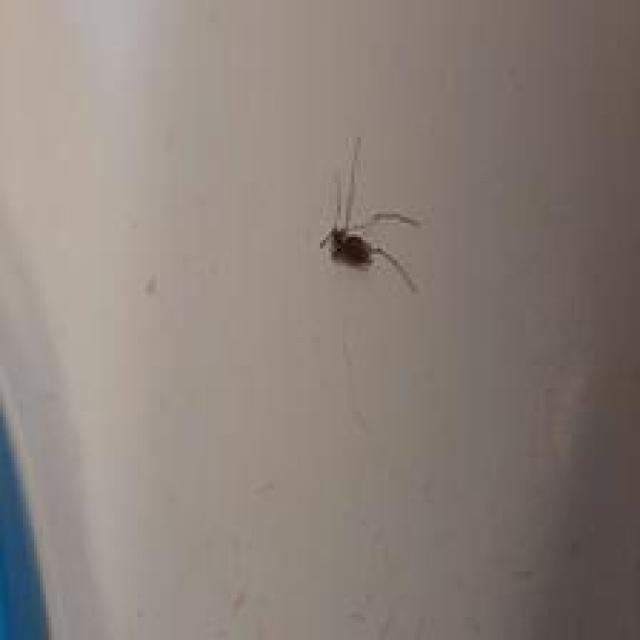Culex: (317, 134, 423, 294)
